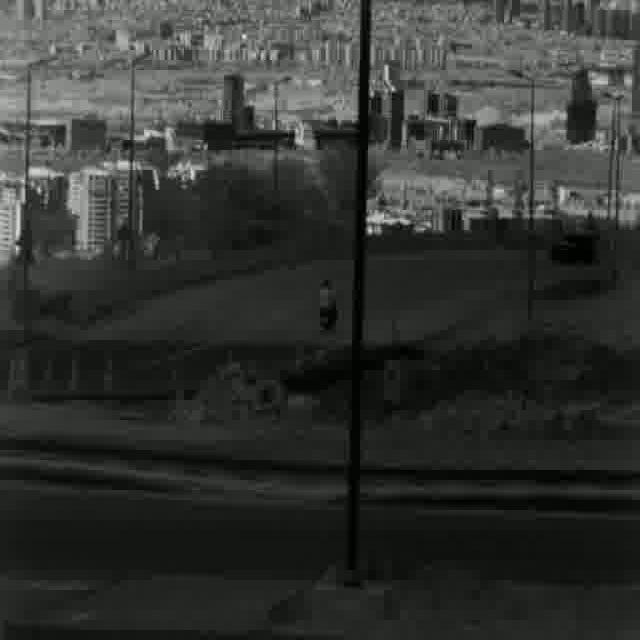Car: (550, 234, 600, 264)
Motorcycle: (316, 279, 338, 339)
